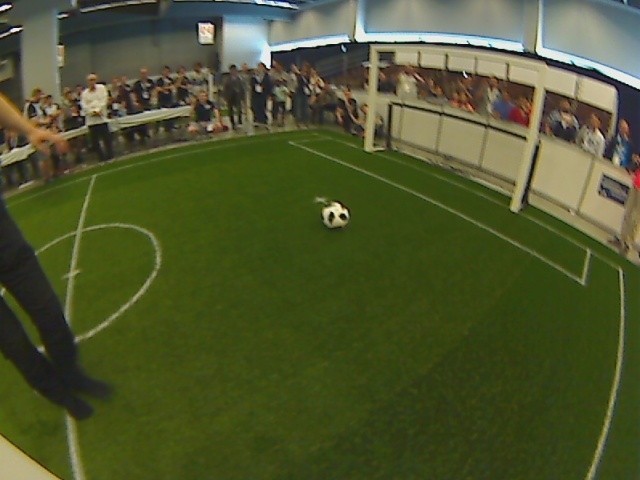ball: (318, 201, 351, 230)
